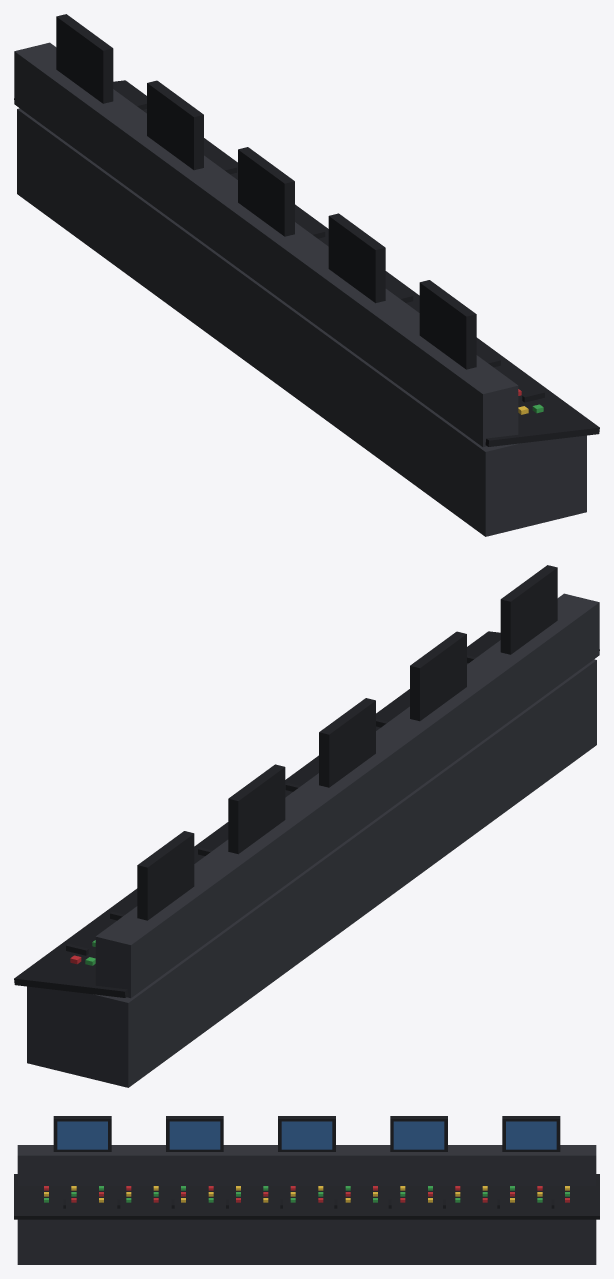
File: tv_console.glb
3 views of the same model, one above another, from view 1: azimuth 30°, elevation 25°; view 2: azimuth 150°, elevation 25°; view 3: azimuth 270°, elevation 25° (orthographic). The views are drawn at different scales.
Visible parts, largest first — view 1: desk_tv_console, shelf_tv_console, monitors_tv_black, desk_tv_black; view 2: desk_tv_console, shelf_tv_console, monitors_tv_black, desk_tv_black; view 3: desk_tv_console, shelf_tv_console, desk_tv_black, monitors_tv_screen, monitors_tv_black, buttons_tv_red, buttons_tv_green, buttons_tv_yellow, faders_tv_black.
Boxes of the visible parts, x1,y1,x2,y2 form: desk_tv_console: (17, 108, 586, 536); shelf_tv_console: (14, 42, 518, 447); monitors_tv_black: (56, 14, 476, 369); desk_tv_black: (14, 80, 599, 446); desk_tv_console: (27, 659, 596, 1087); shelf_tv_console: (95, 593, 599, 998); monitors_tv_black: (137, 565, 557, 920); desk_tv_black: (14, 631, 599, 997); desk_tv_console: (17, 1219, 596, 1264); shelf_tv_console: (17, 1145, 596, 1185); desk_tv_black: (14, 1174, 599, 1219); monitors_tv_screen: (57, 1121, 556, 1149); monitors_tv_black: (53, 1116, 560, 1151); buttons_tv_red: (44, 1186, 569, 1202); buttons_tv_green: (44, 1186, 569, 1202); buttons_tv_yellow: (44, 1186, 569, 1202); faders_tv_black: (63, 1199, 554, 1208).
Bounding box in the file's own units: 1.12 × 1.85 × 8.1.
